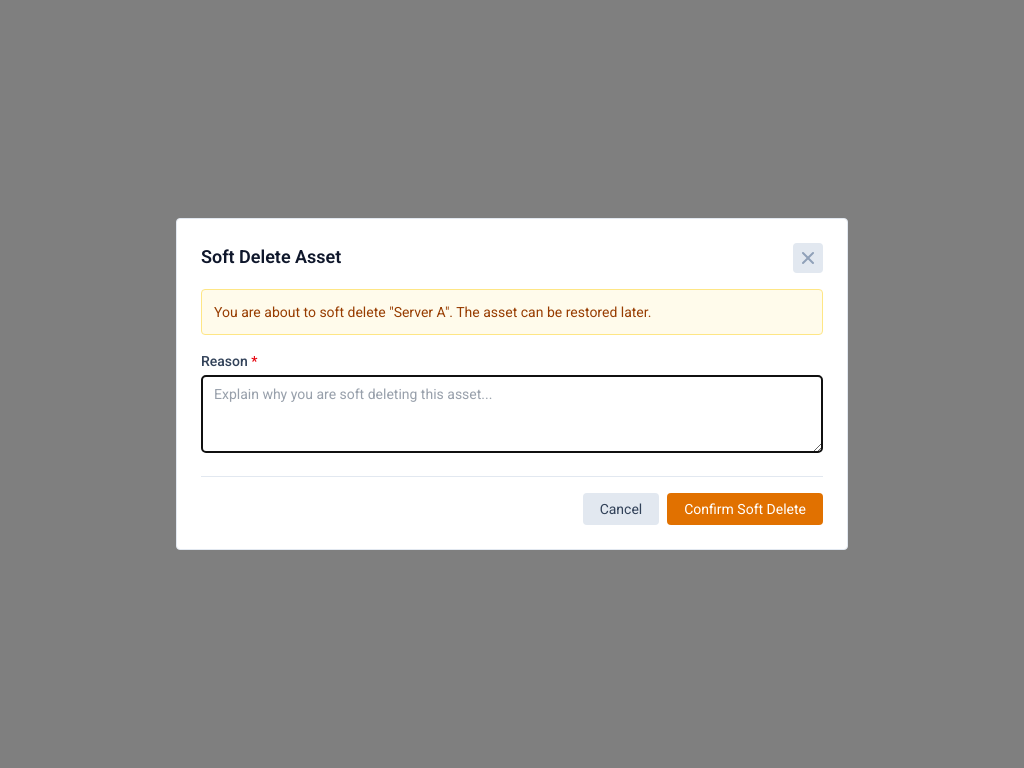
Test: AssetLifecycleModal › propagates API errors and keeps modal open
The width and height of the screenshot is (1024, 768).
Type "Outdated" into the text box with placeholder "Explain why you are soft deleting this asset...". click: (512, 414)
box: top-left (201, 375), bottom-right (823, 453)
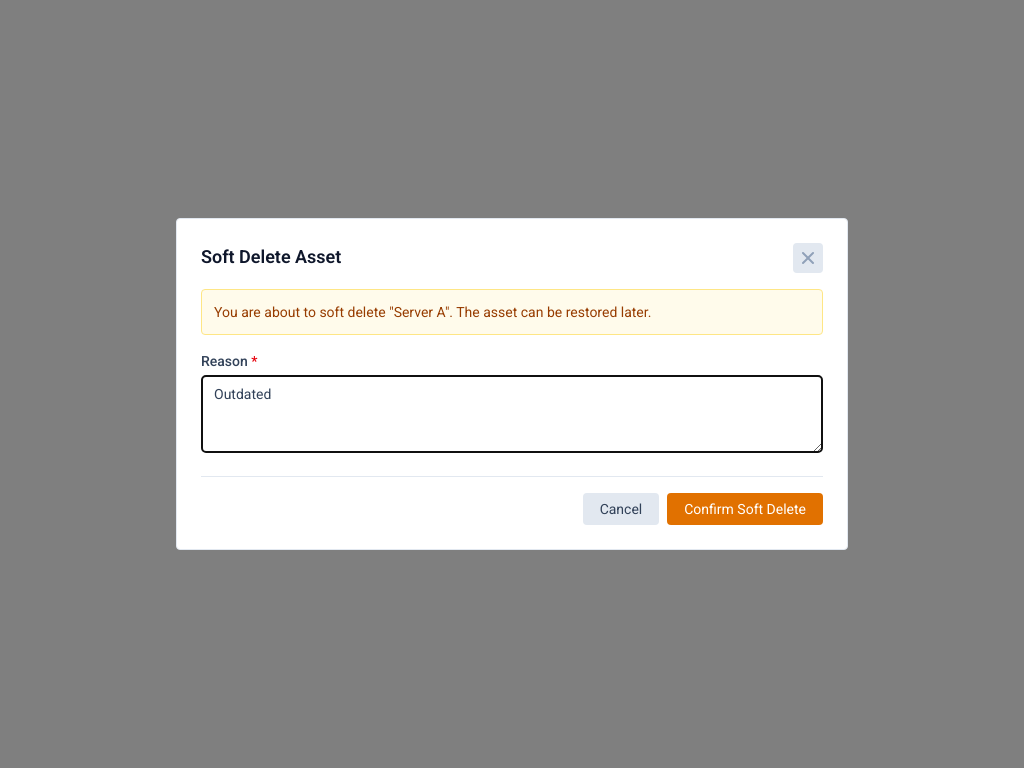
Click the button "Confirm Soft Delete". click: (745, 509)
box: top-left (667, 493), bottom-right (823, 525)
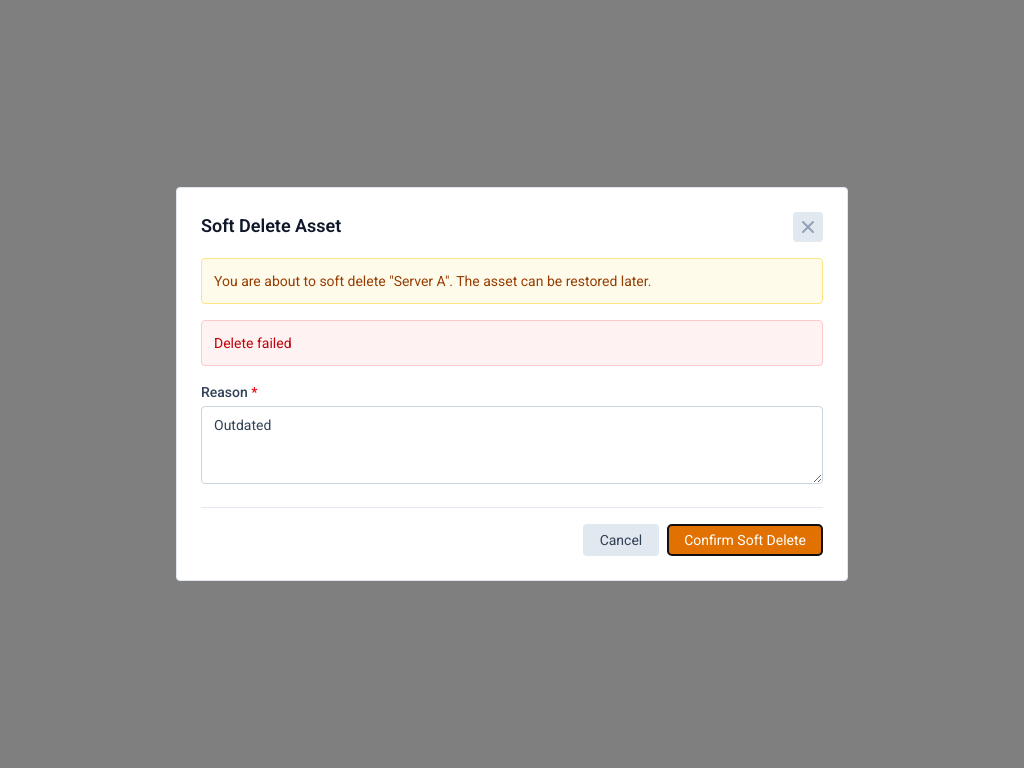
Check: the text "Delete failed" is shown, box top-left (201, 320), bottom-right (823, 366)
